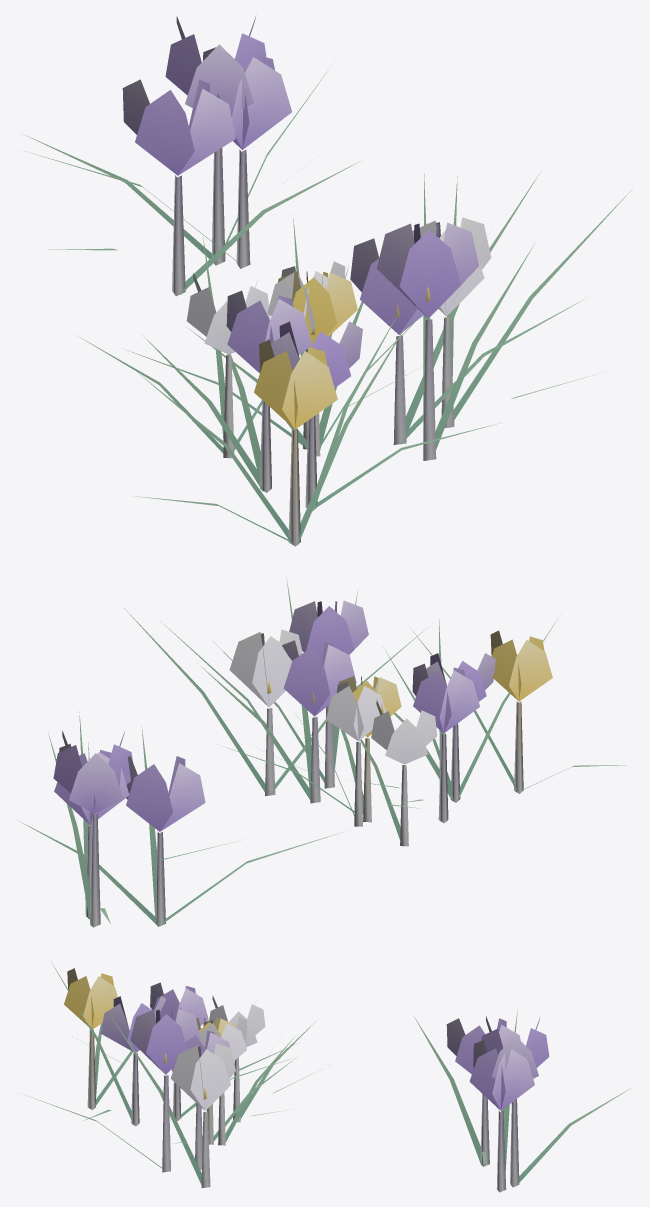
Rendered from crocus_patch_c.glb.
The picture shows the model from 3 angles, top to bottom: view 1: azimuth 30°, elevation 25°; view 2: azimuth 150°, elevation 25°; view 3: azimuth 270°, elevation 25°; orthographic projection. The views are drawn at different scales.
Parts seen in each view (by area): view 1: soft; view 2: soft; view 3: soft.
Boxes of the visible parts, left/top/right/bottom form: soft: left=24, top=16, right=632, bottom=546; soft: left=15, top=579, right=626, bottom=927; soft: left=25, top=962, right=630, bottom=1192.
Size of the model in its own units: 0.5357 by 0.2155 by 0.7243.
